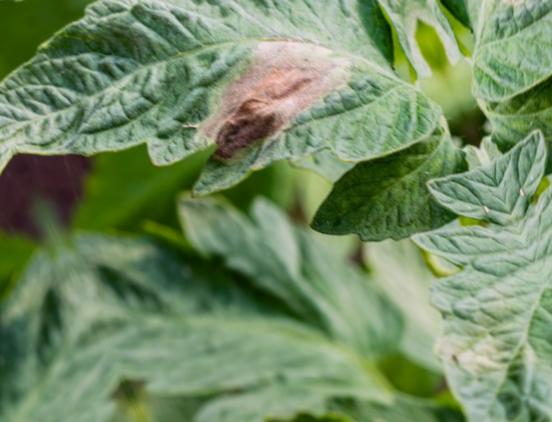Tomato leaf late blight: (0, 0, 467, 303), (355, 153, 552, 422)
